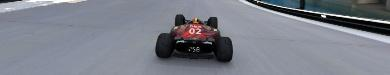Car: (154, 14, 233, 62)
